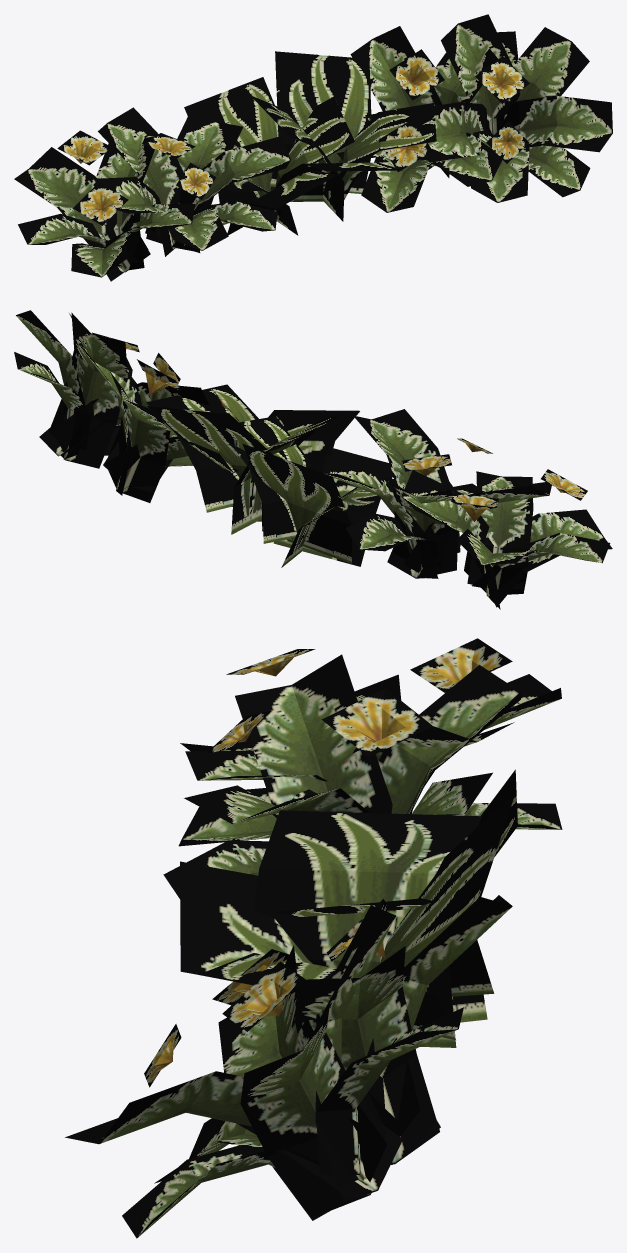
File: plant_lobbynew02_zhiwu_huacao02.FBX
3 renders of one model, top to bottom at view 1: azimuth 30°, elevation 25°; view 2: azimuth 150°, elevation 25°; view 3: azimuth 270°, elevation 25°, orthographic. The views are drawn at different scales.
Visible parts, largest first — view 1: plant_lobbynew02_zhiwu_huacao02; view 2: plant_lobbynew02_zhiwu_huacao02; view 3: plant_lobbynew02_zhiwu_huacao02.
Part boxes in pixels (left/top/right/bottom): plant_lobbynew02_zhiwu_huacao02: left=14, top=14, right=612, bottom=281; plant_lobbynew02_zhiwu_huacao02: left=14, top=310, right=612, bottom=609; plant_lobbynew02_zhiwu_huacao02: left=65, top=638, right=562, bottom=1238.
Size of the model in its own units: 186 by 74.62 by 54.7.
